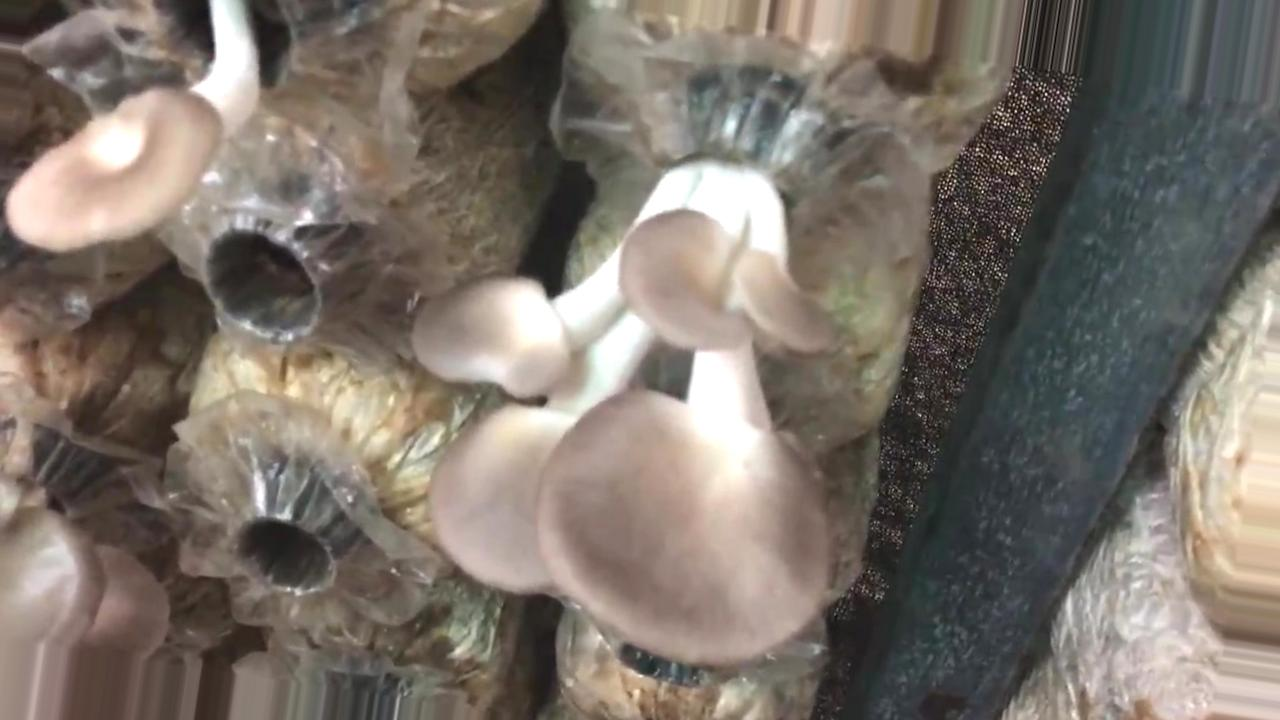nam: (414, 100, 843, 660), (11, 1, 299, 252)
